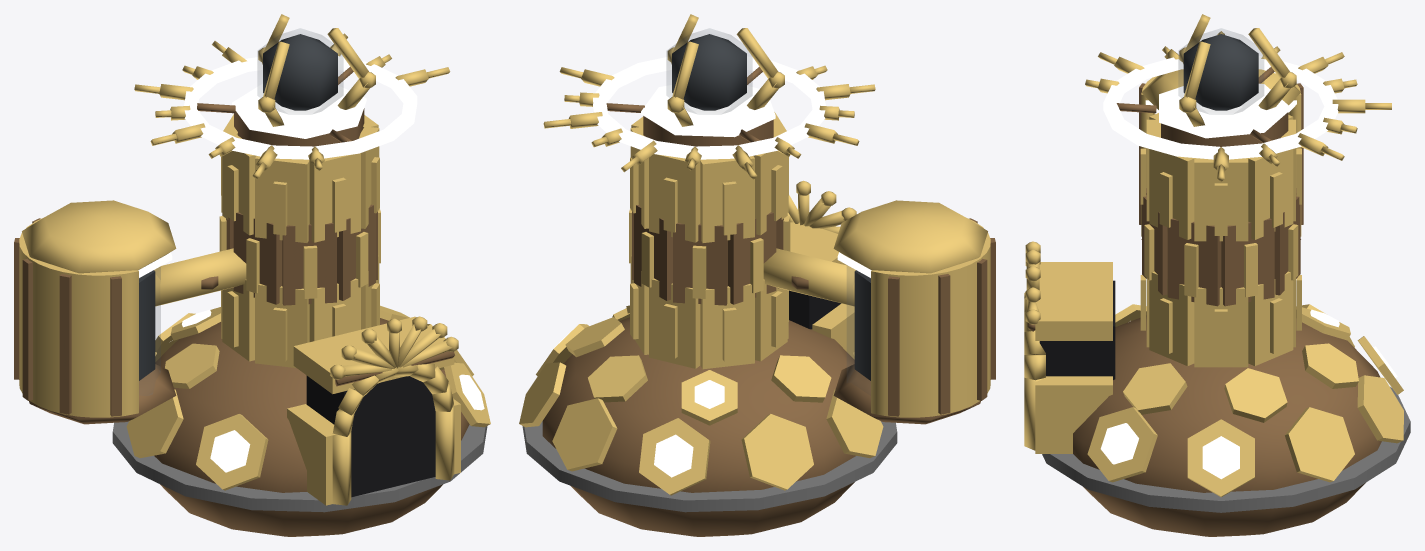
Rendered from SOLAR_Vat_T1.glb.
3 renders of one model, left to right at view 1: azimuth 30°, elevation 25°; view 2: azimuth 150°, elevation 25°; view 3: azimuth 270°, elevation 25°, orthographic.
Parts seen in each view (by area): view 1: SOLAR_Vat_T1; view 2: SOLAR_Vat_T1; view 3: SOLAR_Vat_T1.
Part boxes in pixels (x1,y1,x2,y2): SOLAR_Vat_T1: (14,14,490,536); SOLAR_Vat_T1: (519,14,995,536); SOLAR_Vat_T1: (1024,14,1410,536).
Bounding box in the file's own units: 4.71 × 4.96 × 3.57.
